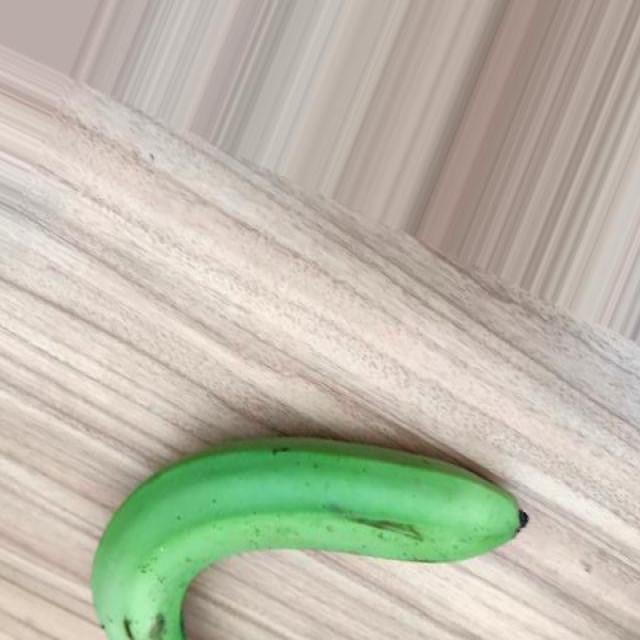Unripe: (90, 432, 530, 640)
